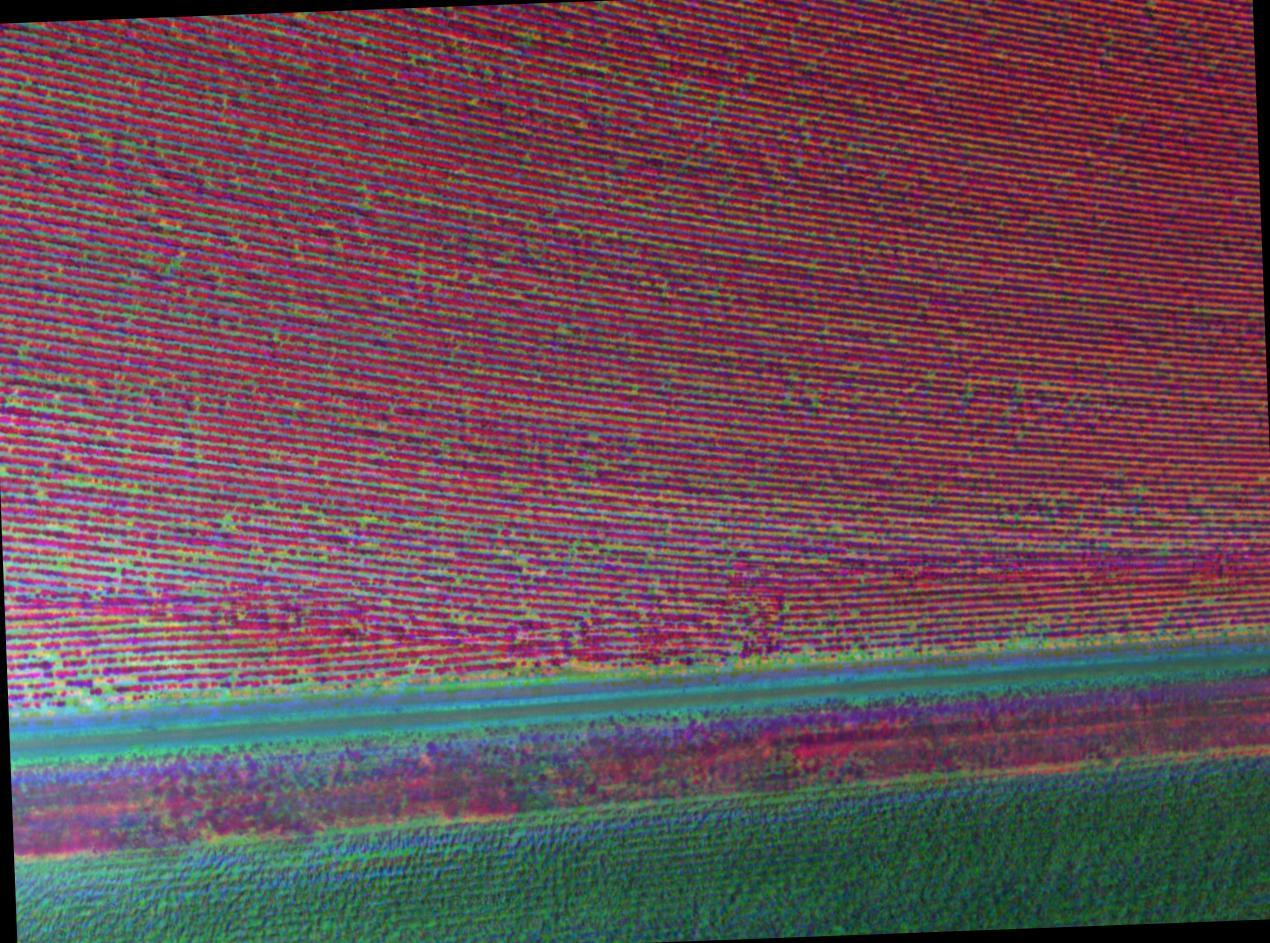dc: (117, 565, 122, 570), (141, 620, 146, 625), (560, 328, 564, 334), (59, 565, 63, 570), (362, 519, 366, 523), (207, 555, 211, 559), (56, 665, 60, 669), (101, 683, 104, 688), (295, 400, 298, 404), (590, 432, 594, 435), (1, 466, 4, 470), (225, 518, 228, 522), (377, 677, 380, 681), (633, 391, 636, 394), (516, 484, 519, 487), (39, 489, 42, 492), (128, 695, 131, 698)
